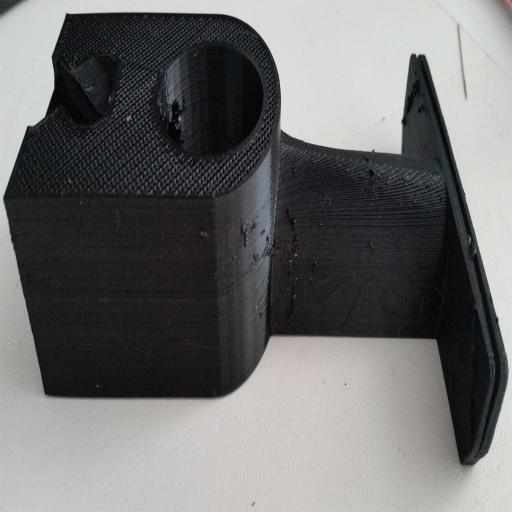blobs: (282, 198, 318, 294), (238, 216, 274, 274)
